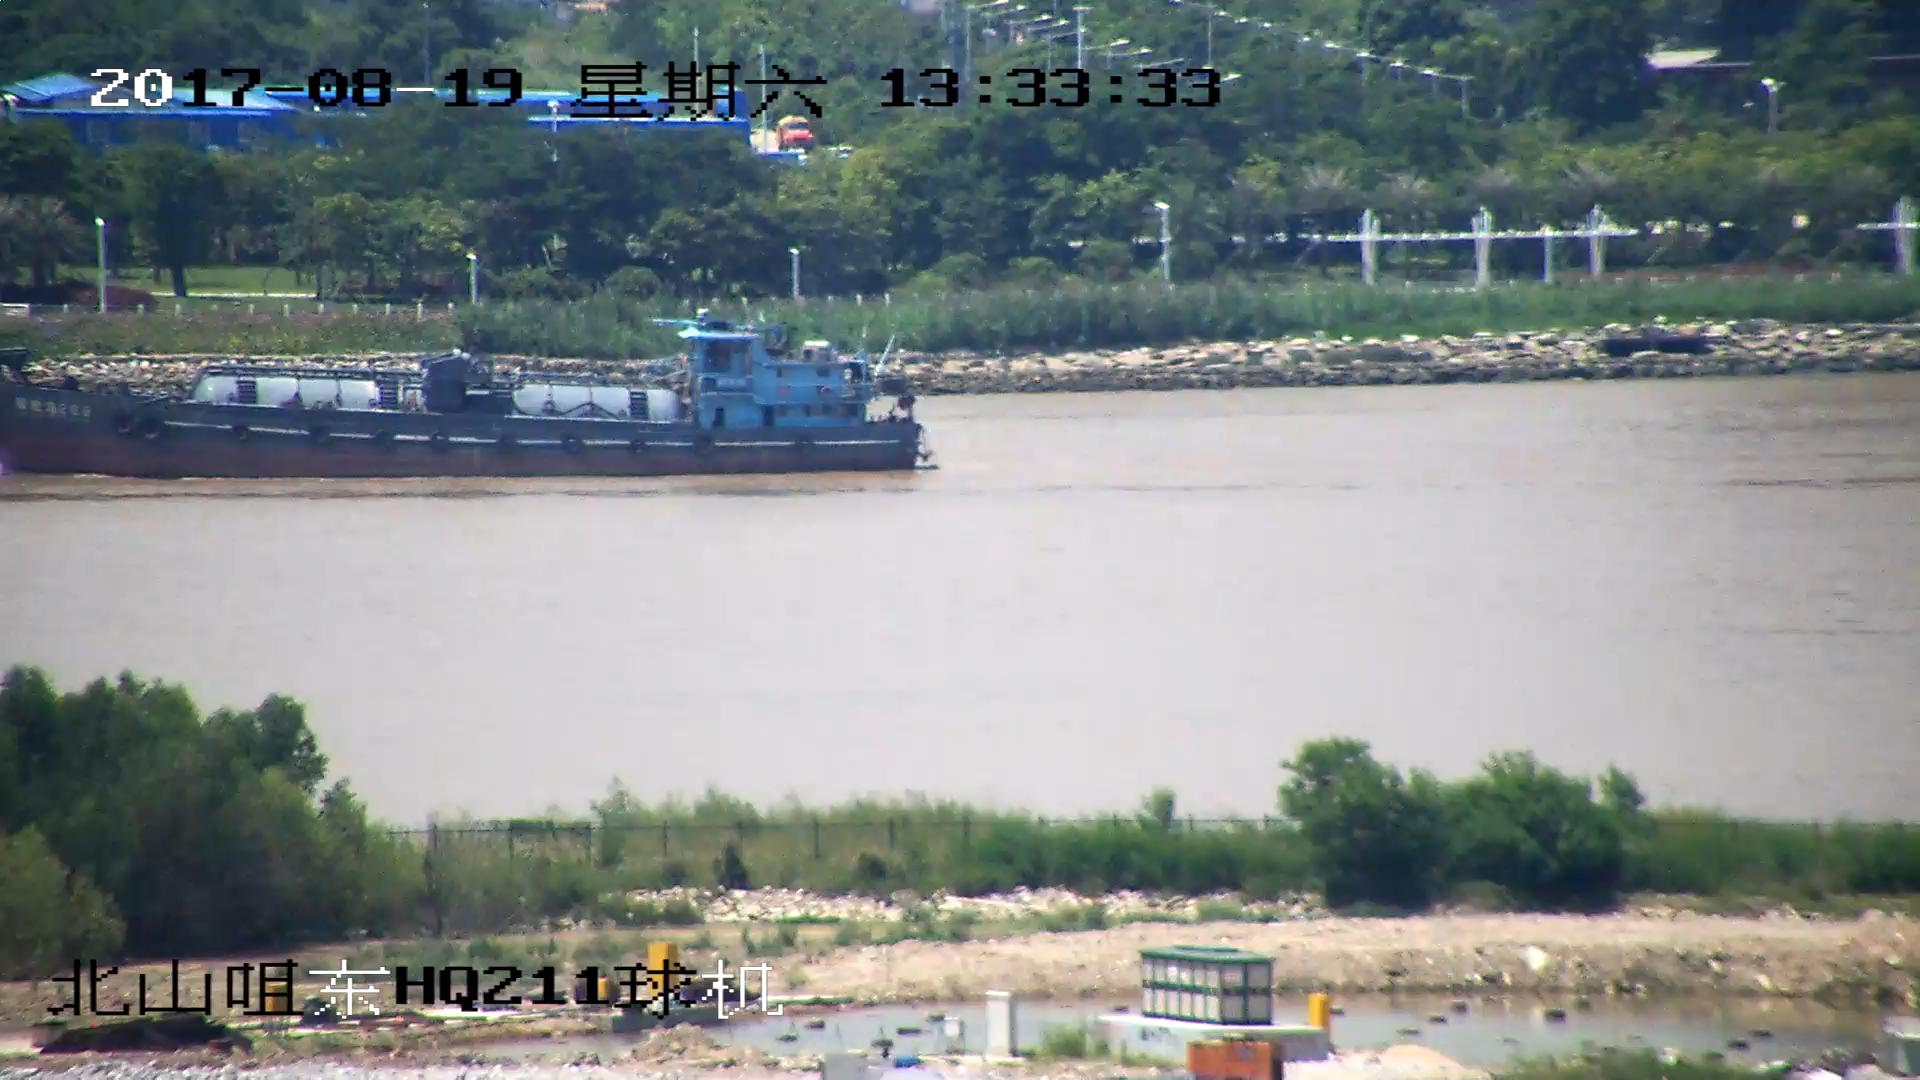bulk cargo carrier: (1, 317, 931, 475)
